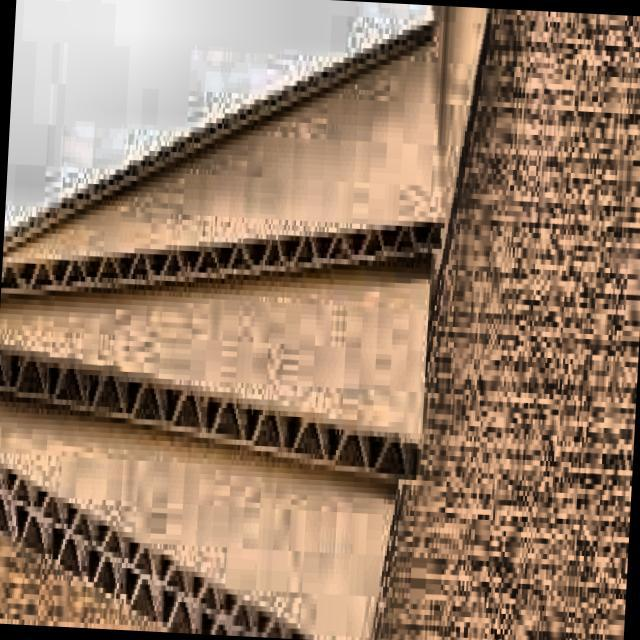cardboard: (0, 0, 492, 640)
